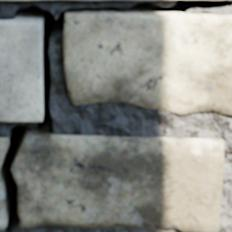brick: (63, 12, 231, 115), (0, 20, 42, 121), (48, 0, 176, 1), (0, 0, 44, 1)
broken_brick: (11, 134, 222, 231), (0, 175, 6, 229), (0, 137, 8, 168)
crack: (0, 0, 231, 231)
